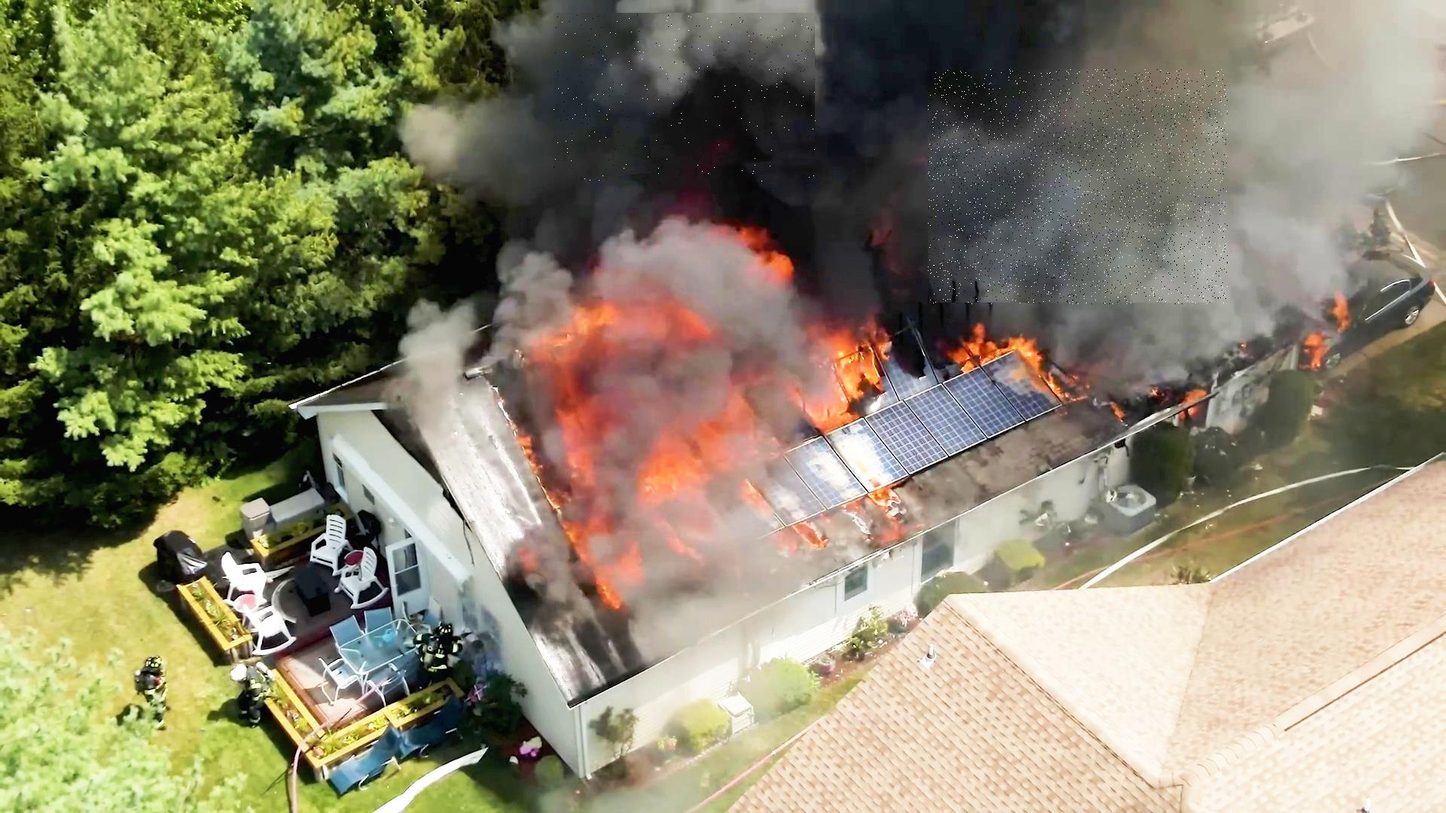smoke: (929, 70, 1228, 305), (554, 13, 817, 183)
